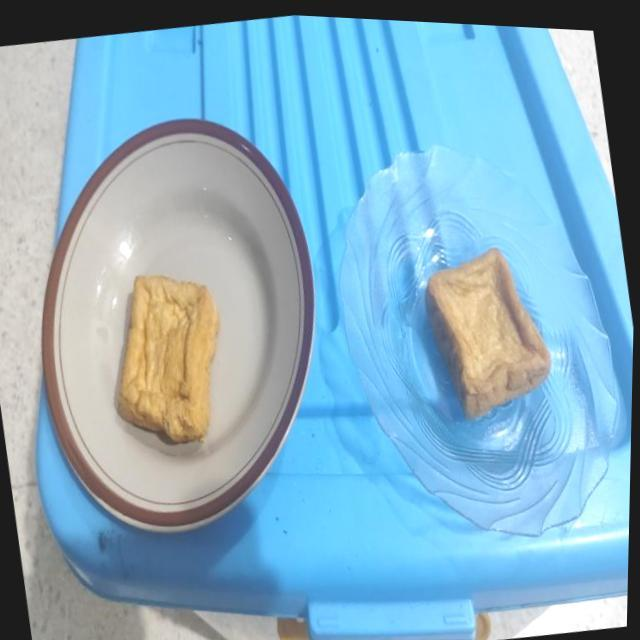tahu_goreng: (425, 248, 551, 418), (118, 276, 220, 442)
